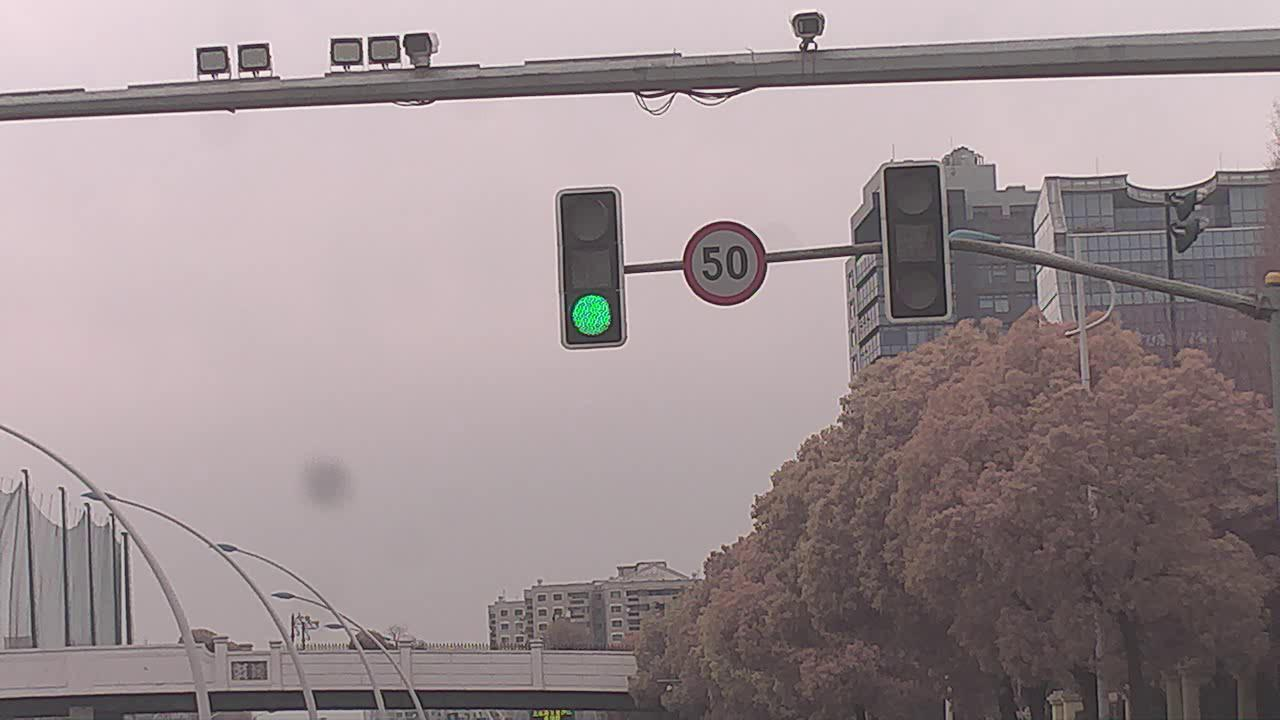traffic_light: (559, 187, 628, 350), (883, 162, 956, 316)
